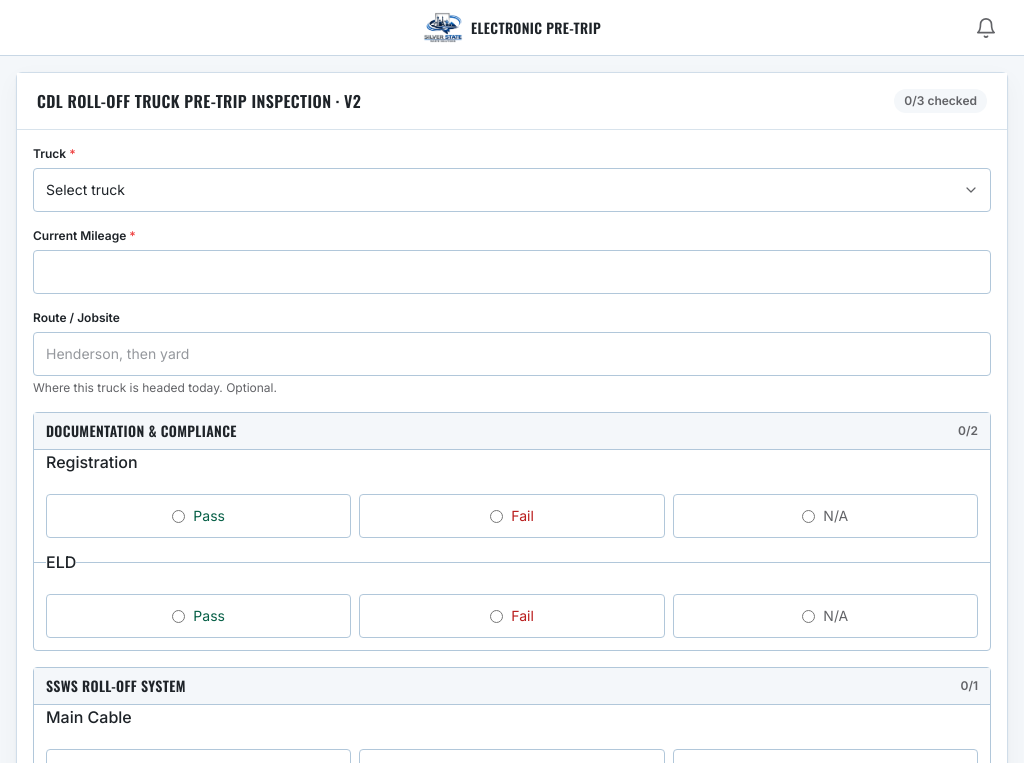
Test case: driver pre-trip — sectioned roll-off inspection › groups items under their section heading with per-section progress
Expected: the heading "Documentation & Compliance" is shown, [46, 421, 237, 441]
Expected: the heading "SSWS Roll-Off System" is shown, [46, 676, 186, 696]
Click the radio button labelled "Pass" below "Registration" at (179, 516), box [172, 510, 185, 522]
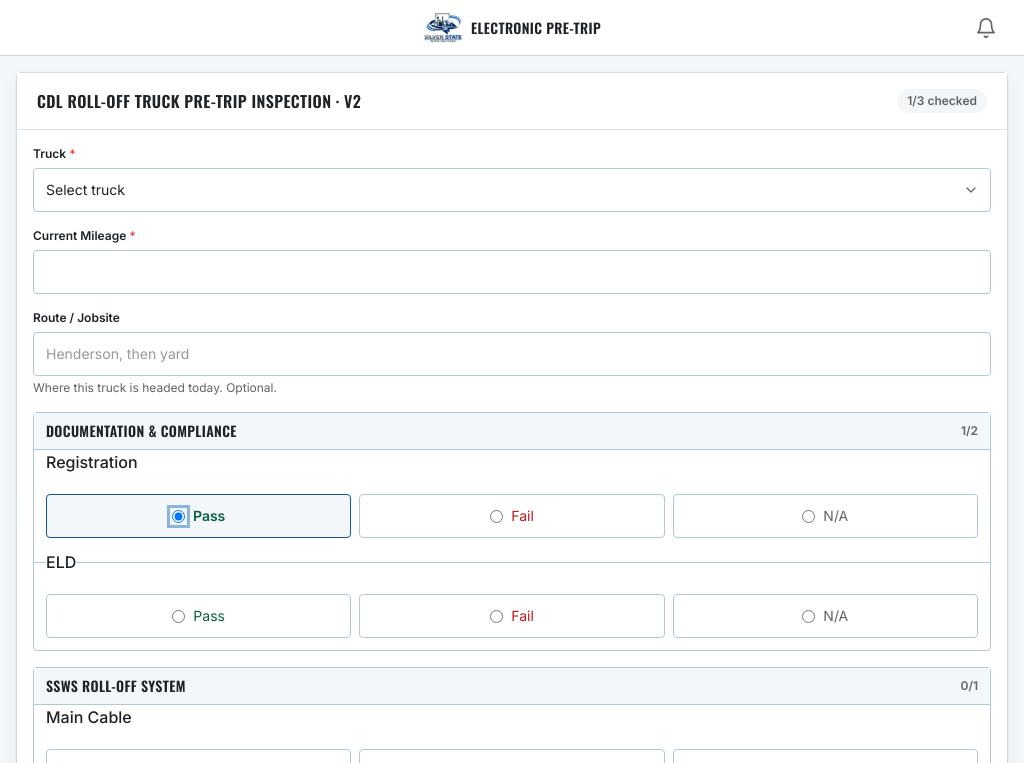
Now the text "1/2" is shown, box [961, 423, 978, 439]
